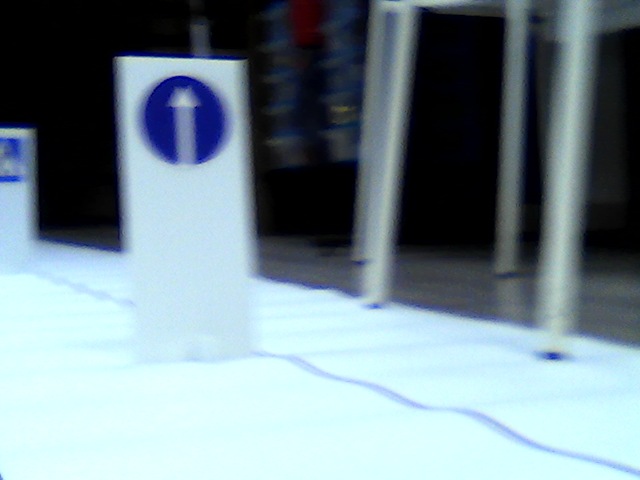forw: (142, 76, 227, 167)
pesh: (1, 135, 23, 185)
